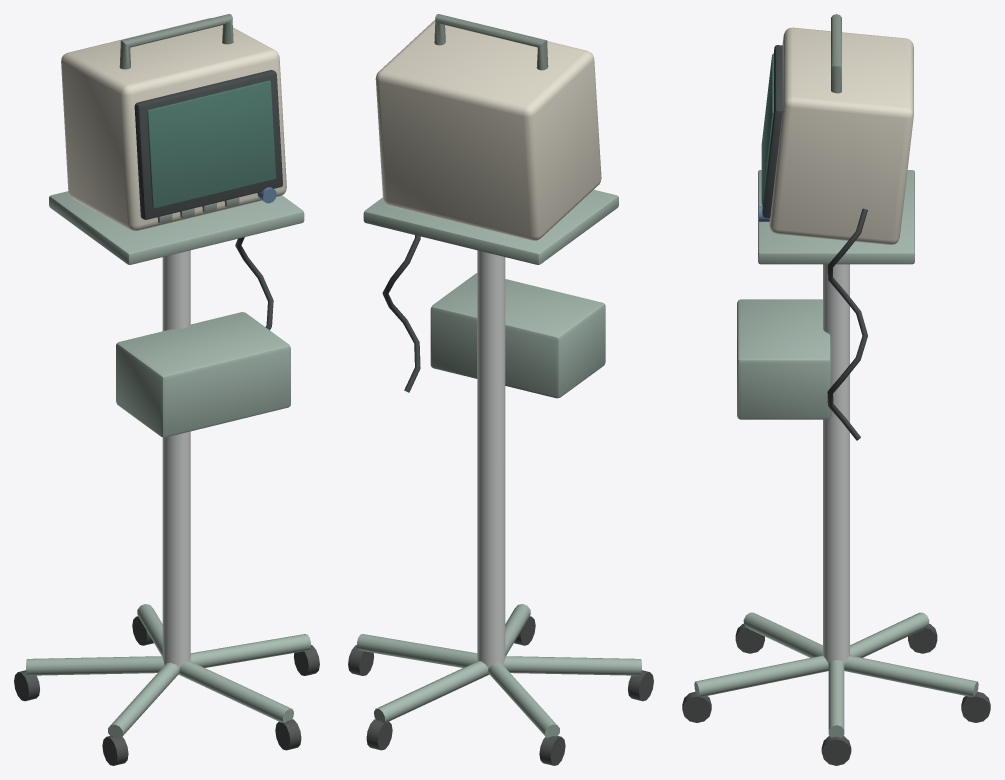
File: CTCC_PROP_PatientMonitorCart.fbx
3 renders of one model, left to right at view 1: azimuth 30°, elevation 25°; view 2: azimuth 150°, elevation 25°; view 3: azimuth 270°, elevation 25°, orthographic. The views are drawn at different scales.
Visible parts, largest first — view 1: CTCC_PROP_PatientMonitorCart_LOD0; view 2: CTCC_PROP_PatientMonitorCart_LOD0; view 3: CTCC_PROP_PatientMonitorCart_LOD0.
Boxes of the visible parts, left/top/right/bottom form: CTCC_PROP_PatientMonitorCart_LOD0: left=14, top=14, right=319, bottom=765; CTCC_PROP_PatientMonitorCart_LOD0: left=348, top=14, right=653, bottom=765; CTCC_PROP_PatientMonitorCart_LOD0: left=682, top=14, right=990, bottom=765.
Size of what is drawn, in the model's own units: 0.5305 by 1.39 by 0.5886.
